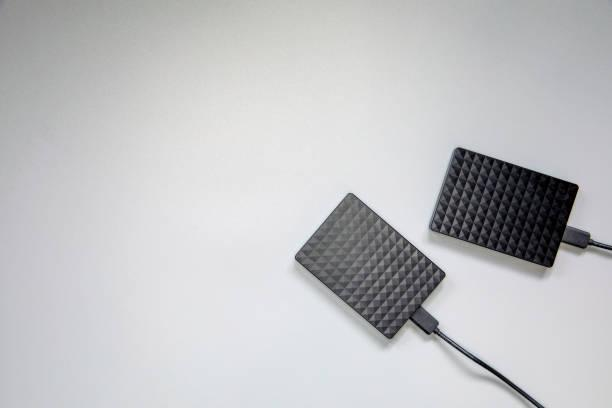HDD: (294, 193, 447, 342), (428, 147, 579, 268)
